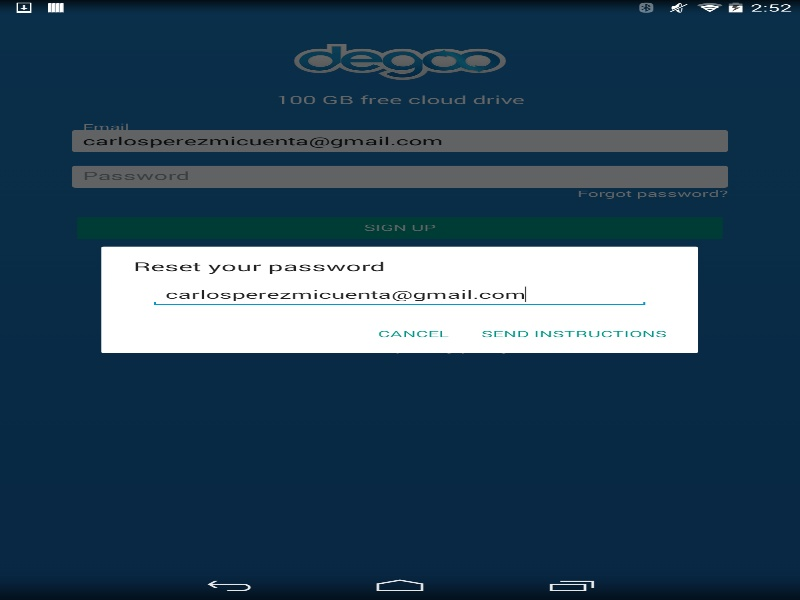Button: (464, 316, 682, 350), (362, 316, 464, 350)
Input: (149, 282, 650, 306)
